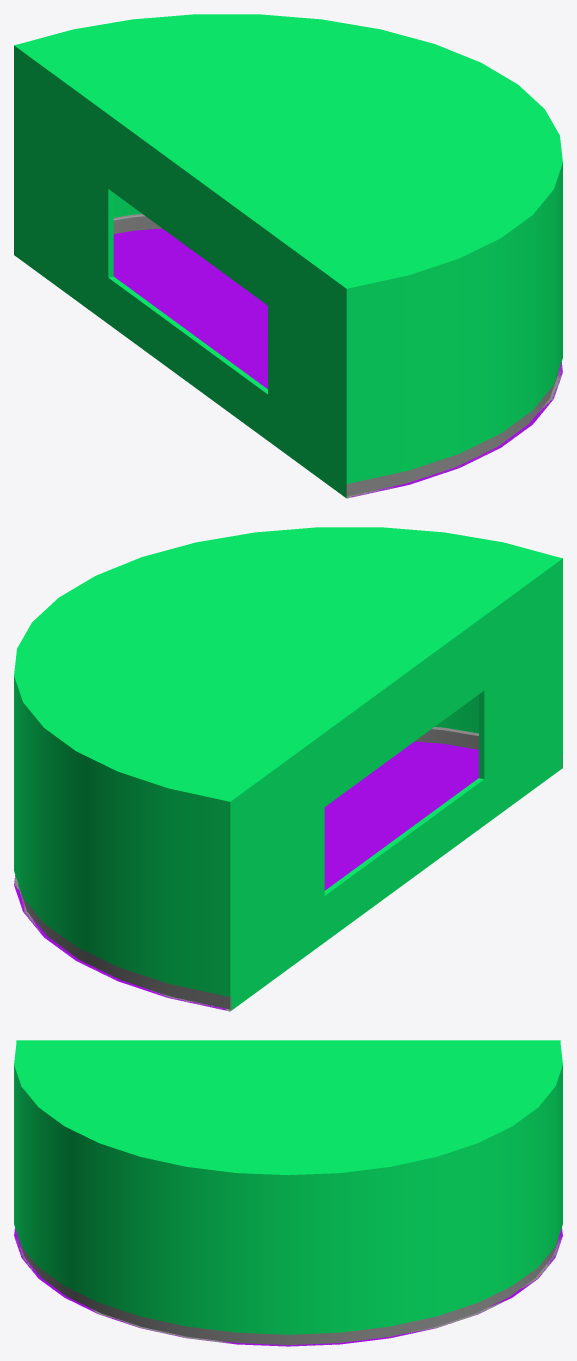
File: SM_RH_WallSet.fbx
3 views of the same model, one above another, from view 1: azimuth 30°, elevation 25°; view 2: azimuth 150°, elevation 25°; view 3: azimuth 270°, elevation 25° (orthographic). The views are drawn at different scales.
Visible parts, largest first — view 1: Cylinder001; view 2: Cylinder001; view 3: Cylinder001.
Part boxes in pixels (box(x1,y1,x2,y2)): Cylinder001: box(14, 14, 562, 498); Cylinder001: box(14, 527, 562, 1011); Cylinder001: box(14, 1040, 562, 1346).
Bounding box in the file's own units: 746 × 1284 × 442.
